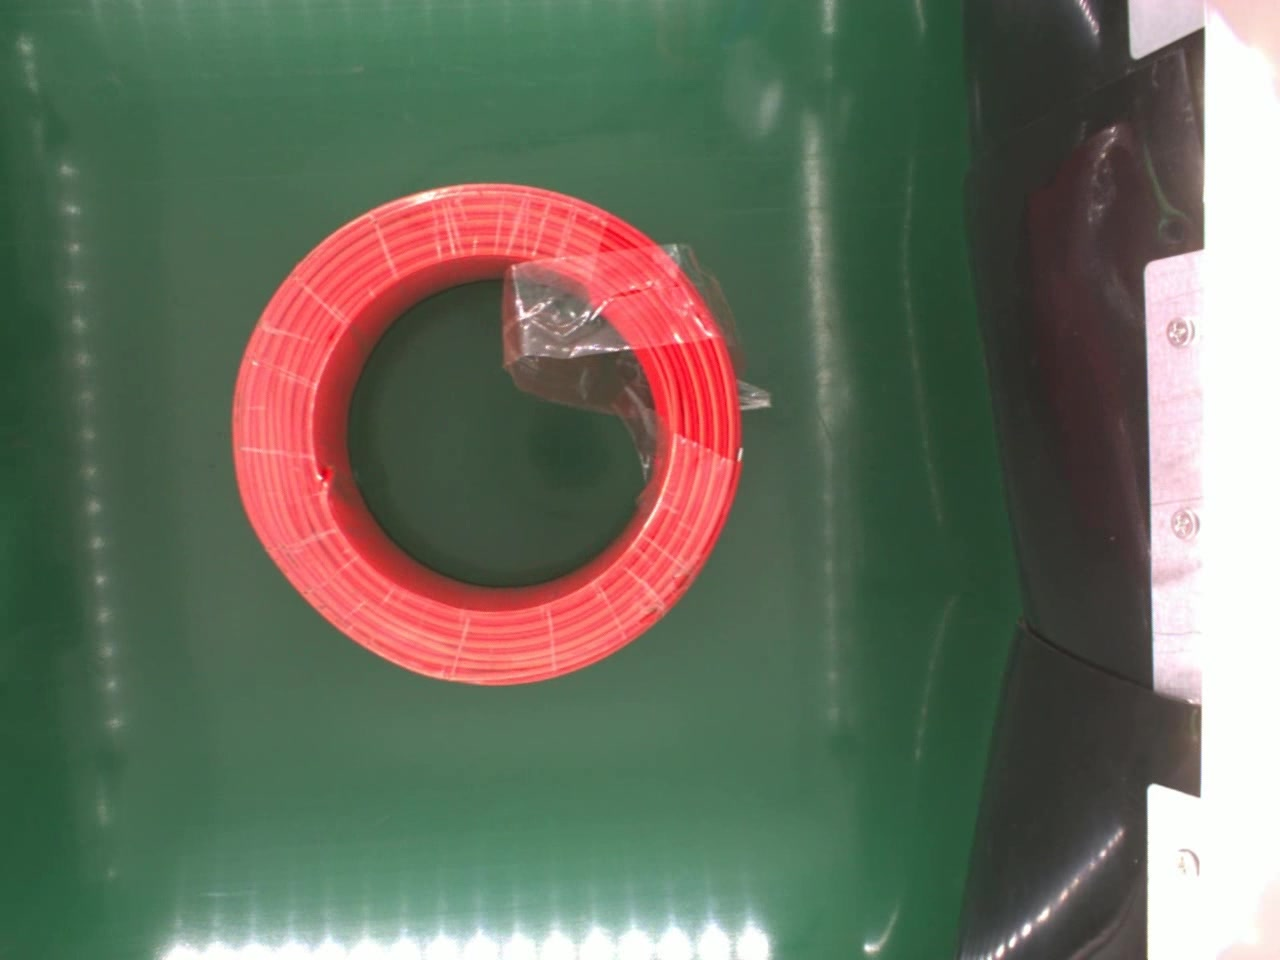red: (225, 179, 739, 692)
